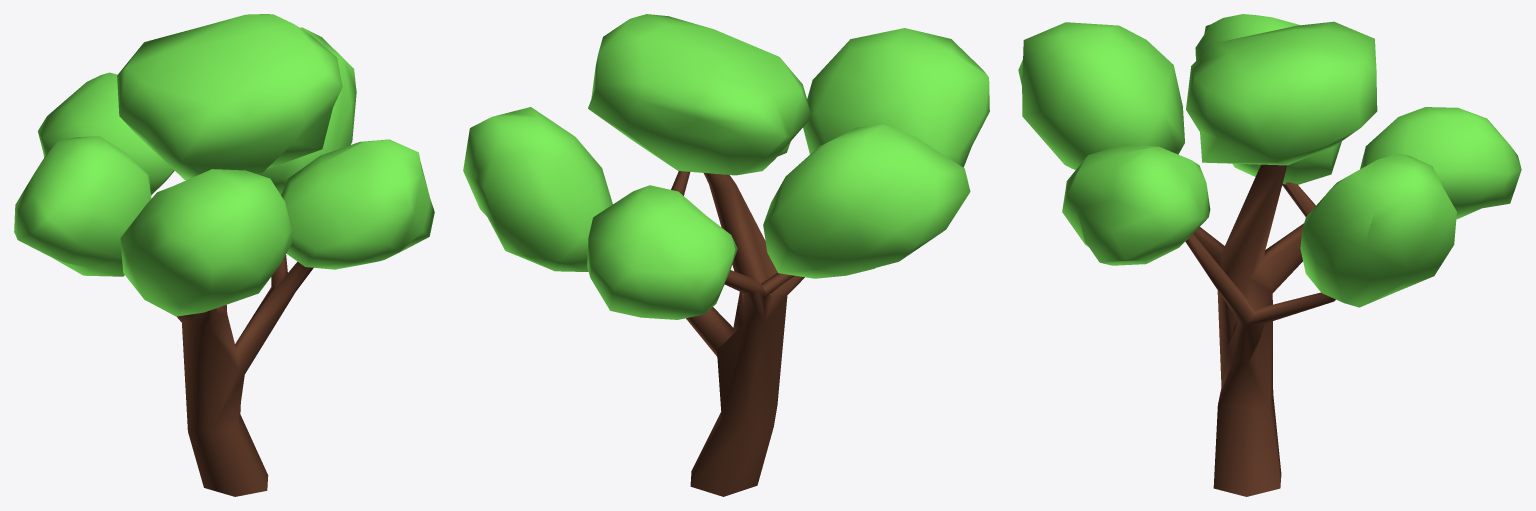
The model's file is Tree01.fbx.
3 renders of one model, left to right at view 1: azimuth 30°, elevation 25°; view 2: azimuth 150°, elevation 25°; view 3: azimuth 270°, elevation 25°, orthographic. The views are drawn at different scales.
Parts seen in each view (by area): view 1: Tree01; view 2: Tree01; view 3: Tree01.
Part boxes in pixels (box(x1,y1,x2,y2)): Tree01: box(14, 14, 434, 496); Tree01: box(463, 14, 989, 496); Tree01: box(1018, 14, 1521, 496).
Bounding box in the file's own units: 648 × 680 × 680.
